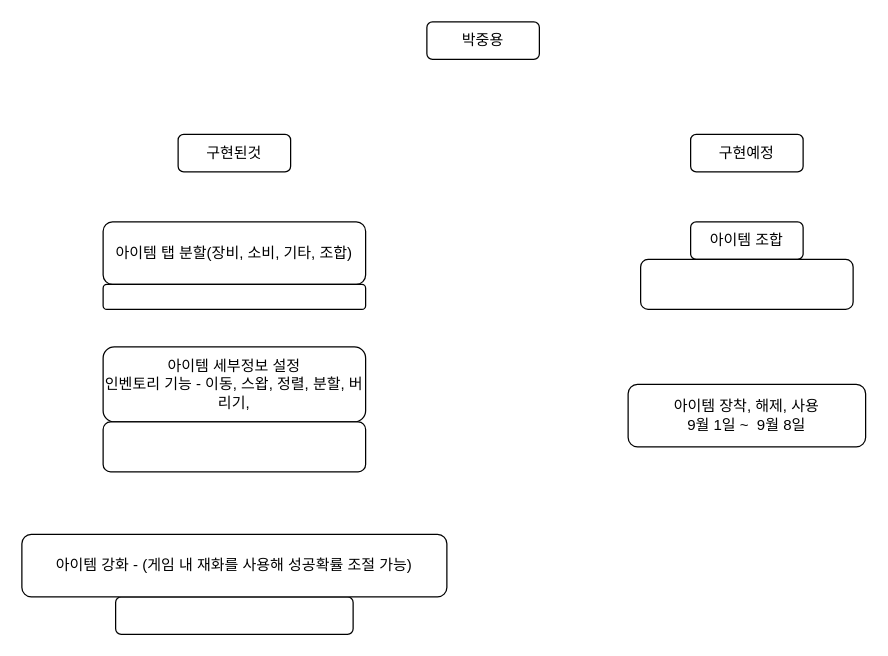
Image size: 888x656. Some labels were removed from this diagram. The shapes that lost their labels are listed below. From the top down, each one's box as (x1, y1, x2, y2) in pixels, then its label:
(102, 283, 366, 309): 6월 5일 ~ 6월 20일
(639, 258, 853, 309): 8월 8일 ~ 현재 2주 예상
(102, 421, 366, 472): 6월 25일 ~ 7월 30일 시행착오, 잦은 구조변경
(114, 596, 353, 634): 8월 1일 ~ 8월 7일
